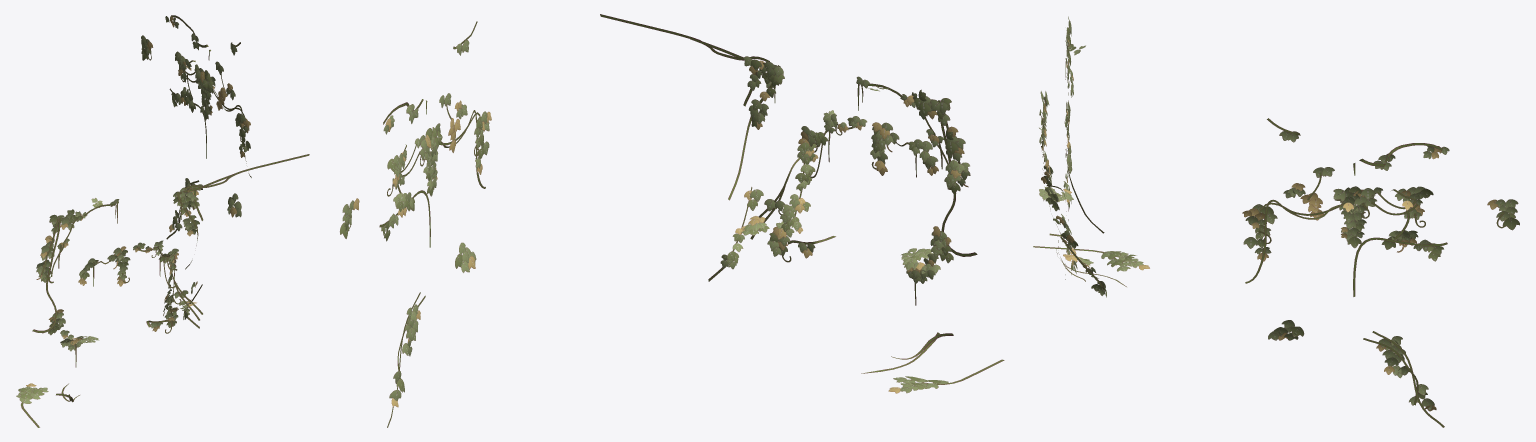
File: Mesh_Room_Cirrus.fbx
The picture shows the model from 3 angles, left to right: view 1: azimuth 30°, elevation 25°; view 2: azimuth 150°, elevation 25°; view 3: azimuth 270°, elevation 25°; orthographic projection. The views are drawn at different scales.
Parts seen in each view (by area): view 1: Mesh_Room_Cirrus; view 2: Mesh_Room_Cirrus; view 3: Mesh_Room_Cirrus.
Part boxes in pixels (x1,y1,x2,y2): Mesh_Room_Cirrus: (16, 15, 309, 427); Mesh_Room_Cirrus: (339, 14, 1004, 427); Mesh_Room_Cirrus: (1033, 16, 1519, 427).
Size of the model in its own units: 477 by 373 by 529.
2 materials, 2 textured.
